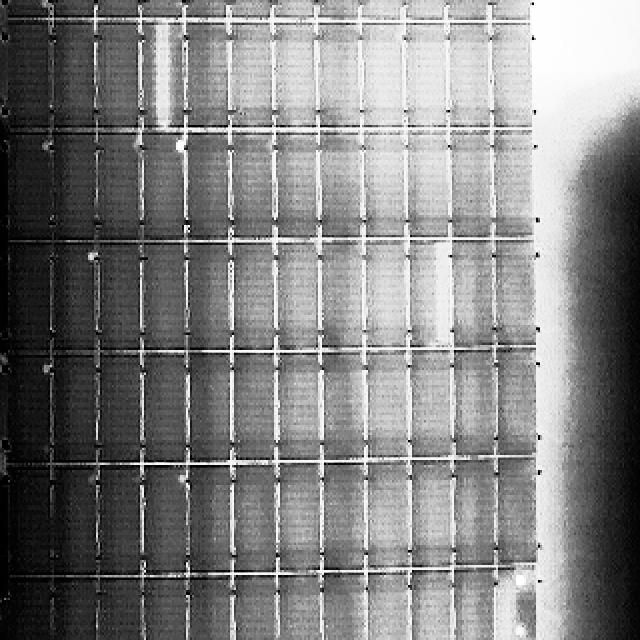Hotspots: (508, 567, 534, 588), (519, 566, 540, 590), (174, 134, 190, 155), (514, 620, 528, 638), (83, 249, 97, 264), (39, 139, 49, 154), (41, 362, 50, 377), (177, 474, 186, 486)
PV-modules: (51, 20, 101, 134), (2, 19, 51, 131), (182, 130, 231, 241), (51, 248, 100, 358), (227, 134, 275, 246), (2, 354, 50, 464), (228, 246, 276, 356), (234, 469, 282, 577), (186, 354, 232, 466), (449, 132, 495, 244), (51, 355, 98, 464), (233, 354, 280, 463), (51, 134, 98, 242), (4, 134, 51, 242), (366, 464, 412, 574), (140, 354, 186, 464), (453, 347, 499, 457), (318, 134, 364, 244), (278, 134, 324, 244), (92, 135, 138, 245), (52, 469, 98, 578), (9, 469, 55, 578), (138, 134, 184, 243), (99, 469, 145, 578), (140, 22, 186, 131), (320, 245, 365, 356), (284, 462, 329, 573), (185, 244, 232, 350), (276, 354, 322, 462), (453, 244, 498, 354), (5, 242, 50, 352), (322, 462, 367, 572), (367, 352, 412, 462), (185, 24, 230, 133), (97, 22, 142, 131), (99, 355, 144, 464), (490, 131, 535, 240), (359, 23, 405, 129), (186, 466, 232, 572), (362, 240, 407, 348), (317, 24, 362, 132), (98, 242, 143, 350), (322, 353, 367, 461), (415, 245, 459, 355), (412, 132, 455, 244), (140, 471, 185, 578), (449, 23, 494, 130), (455, 458, 499, 567), (274, 241, 318, 350), (139, 243, 184, 349), (365, 134, 409, 242), (408, 352, 452, 460), (490, 24, 533, 133), (272, 24, 316, 130), (417, 460, 459, 571), (411, 23, 454, 131), (494, 350, 536, 460), (492, 238, 534, 347), (233, 24, 276, 130), (494, 456, 536, 564), (454, 571, 502, 640), (322, 575, 369, 640), (366, 574, 412, 640), (232, 577, 280, 640), (407, 572, 451, 640), (6, 578, 54, 640), (185, 577, 232, 640), (274, 576, 320, 640), (98, 579, 146, 640), (494, 570, 535, 640), (53, 578, 98, 640), (140, 581, 187, 640), (270, 0, 314, 25), (184, 0, 230, 22), (138, 0, 184, 22), (230, 0, 276, 22), (358, 0, 402, 22), (486, 0, 530, 22), (0, 0, 48, 20), (314, 0, 360, 20), (90, 0, 136, 20), (406, 0, 452, 20), (446, 0, 490, 20), (48, 0, 96, 18)
